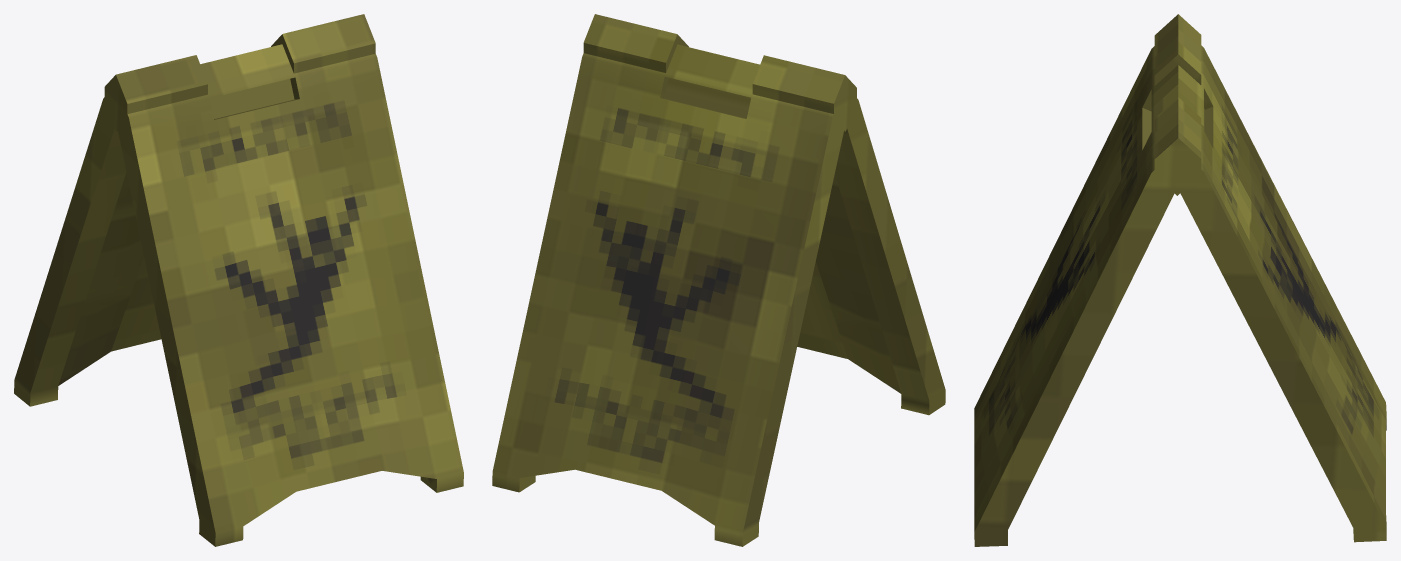
The model's file is CautionWetSign.fbx.
3 views of the same model, side by side, from view 1: azimuth 30°, elevation 25°; view 2: azimuth 150°, elevation 25°; view 3: azimuth 270°, elevation 25° (orthographic). The views are drawn at different scales.
Parts seen in each view (by area): view 1: pCube1; view 2: pCube1; view 3: pCube1.
Boxes of the visible parts, x1=… form: pCube1: x1=14, y1=14, x2=463, y2=546; pCube1: x1=492, y1=14, x2=945, y2=546; pCube1: x1=974, y1=14, x2=1386, y2=546.
Bounding box in the file's own units: 0.6797 × 1.05 × 0.9555.
